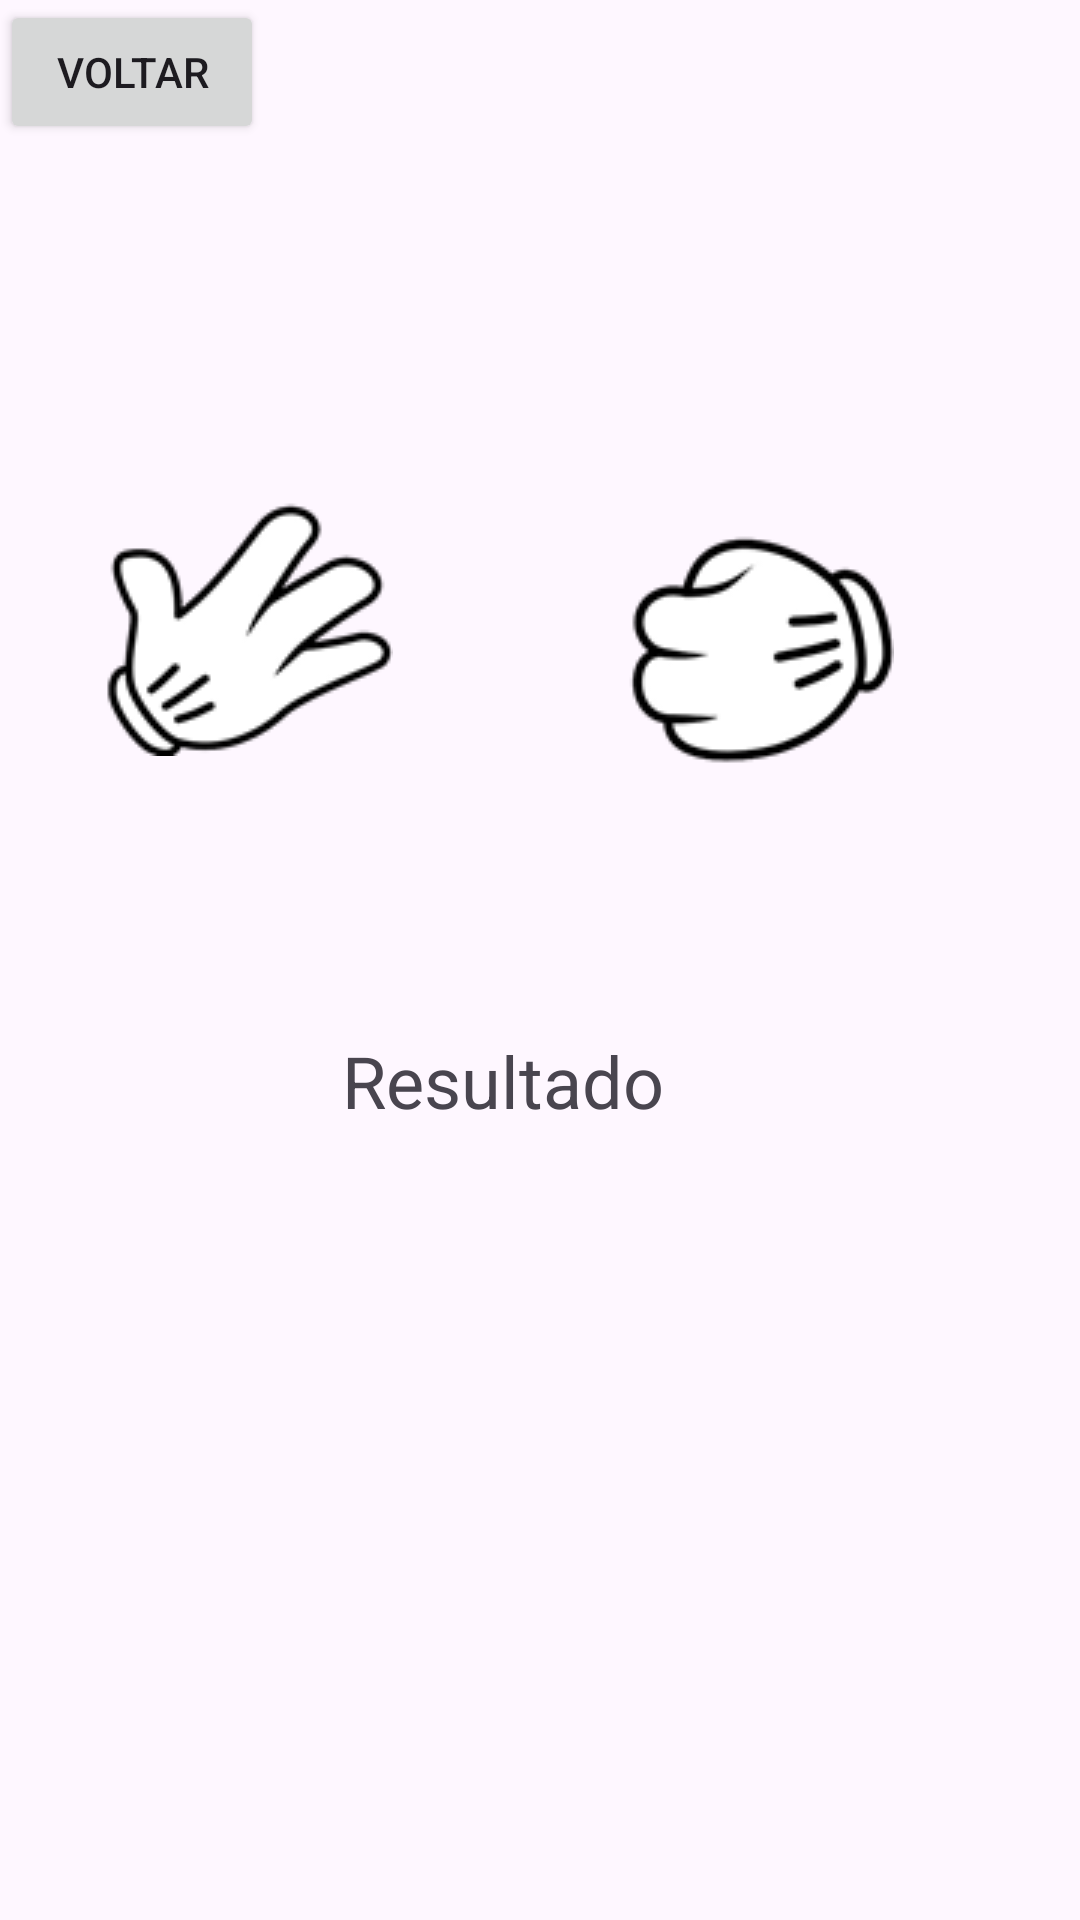

Point at icon controls on the screen. Image size 1080px×1920px, points as [x,y].
papel: [250,630]
pedra: [762,649]
